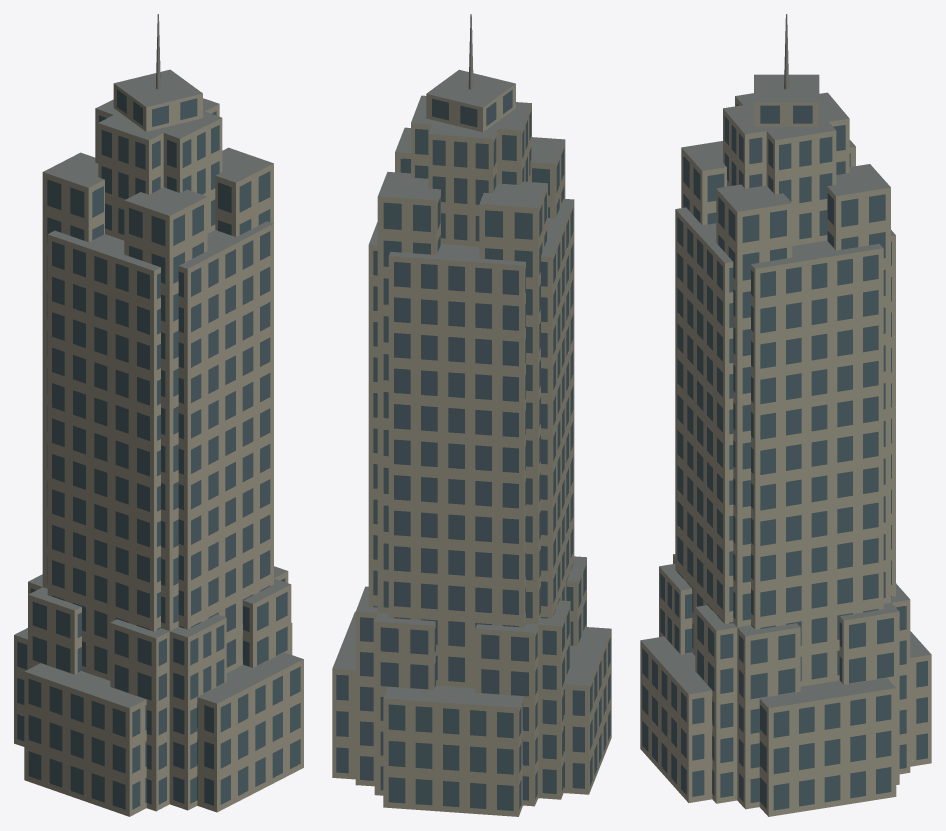
File: rembrandt-tower-far.glb
3 views of the same model, side by side, from view 1: azimuth 30°, elevation 25°; view 2: azimuth 150°, elevation 25°; view 3: azimuth 270°, elevation 25° (orthographic).
Visible parts, largest first — view 1: rembrandt-tower-0-stone, rembrandt-tower-0-glass, rembrandt-tower-0-roof; view 2: rembrandt-tower-0-stone, rembrandt-tower-0-glass, rembrandt-tower-0-roof; view 3: rembrandt-tower-0-stone, rembrandt-tower-0-glass, rembrandt-tower-0-roof.
Part boxes in pixels (box(x1,y1,x2,y2)): rembrandt-tower-0-stone: box(14, 83, 303, 816); rembrandt-tower-0-glass: box(17, 89, 300, 809); rembrandt-tower-0-roof: box(14, 69, 303, 708); rembrandt-tower-0-stone: box(332, 84, 611, 816); rembrandt-tower-0-glass: box(336, 89, 610, 810); rembrandt-tower-0-roof: box(332, 69, 611, 707); rembrandt-tower-0-stone: box(640, 96, 931, 816); rembrandt-tower-0-glass: box(642, 104, 927, 810); rembrandt-tower-0-roof: box(641, 74, 931, 707).
Size of the model in its own units: 53.05 by 150 by 53.36.
